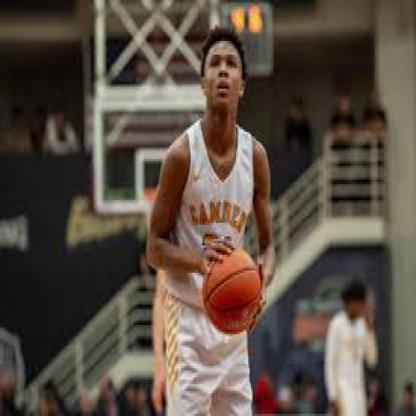basketball: (202, 250, 262, 334)
